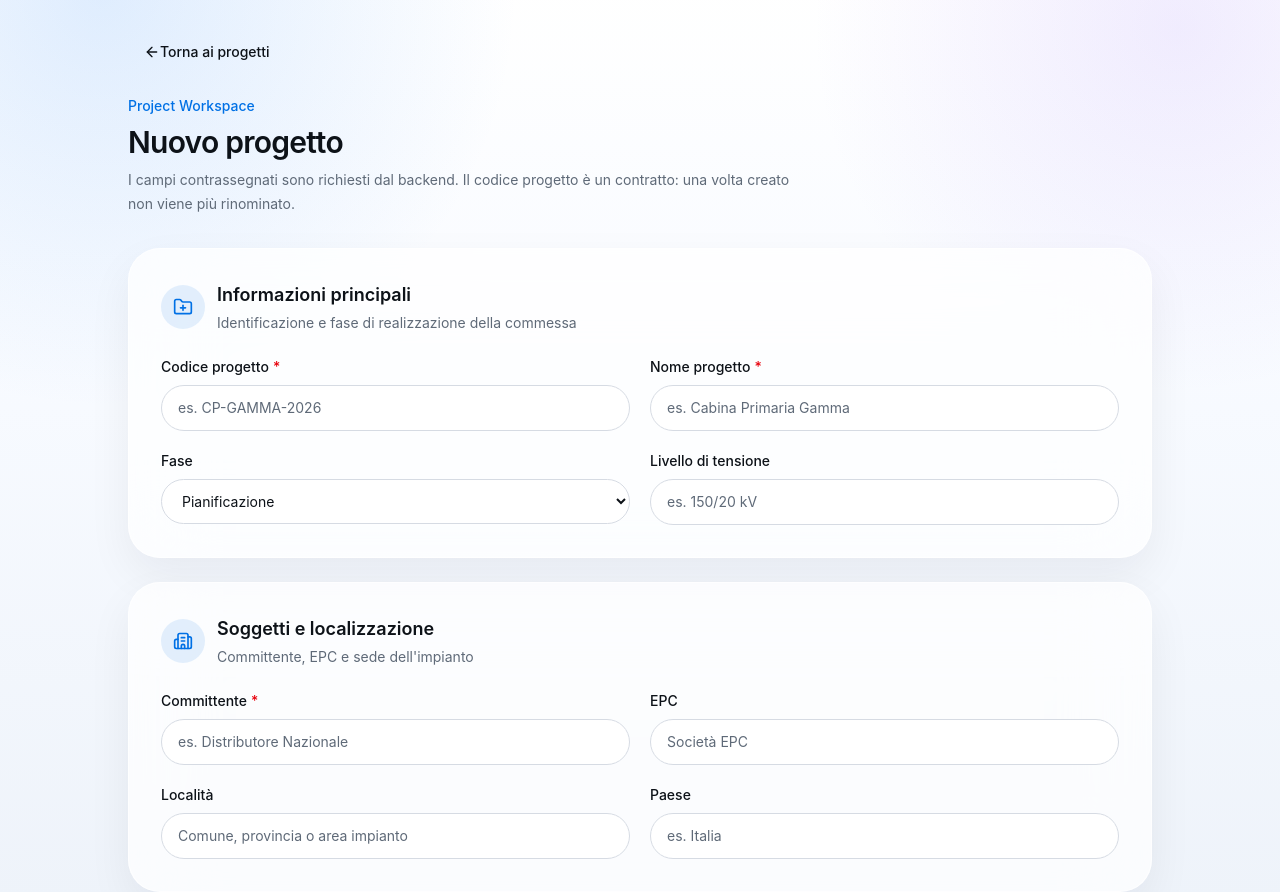
Test: project creation › refuses to submit without the customer the backend requires
The image size is (1280, 892).
Type "CP-1" into the field labelled "Codice progetto*".
click(396, 408); type("CP-1")  # box [161, 385, 630, 431]
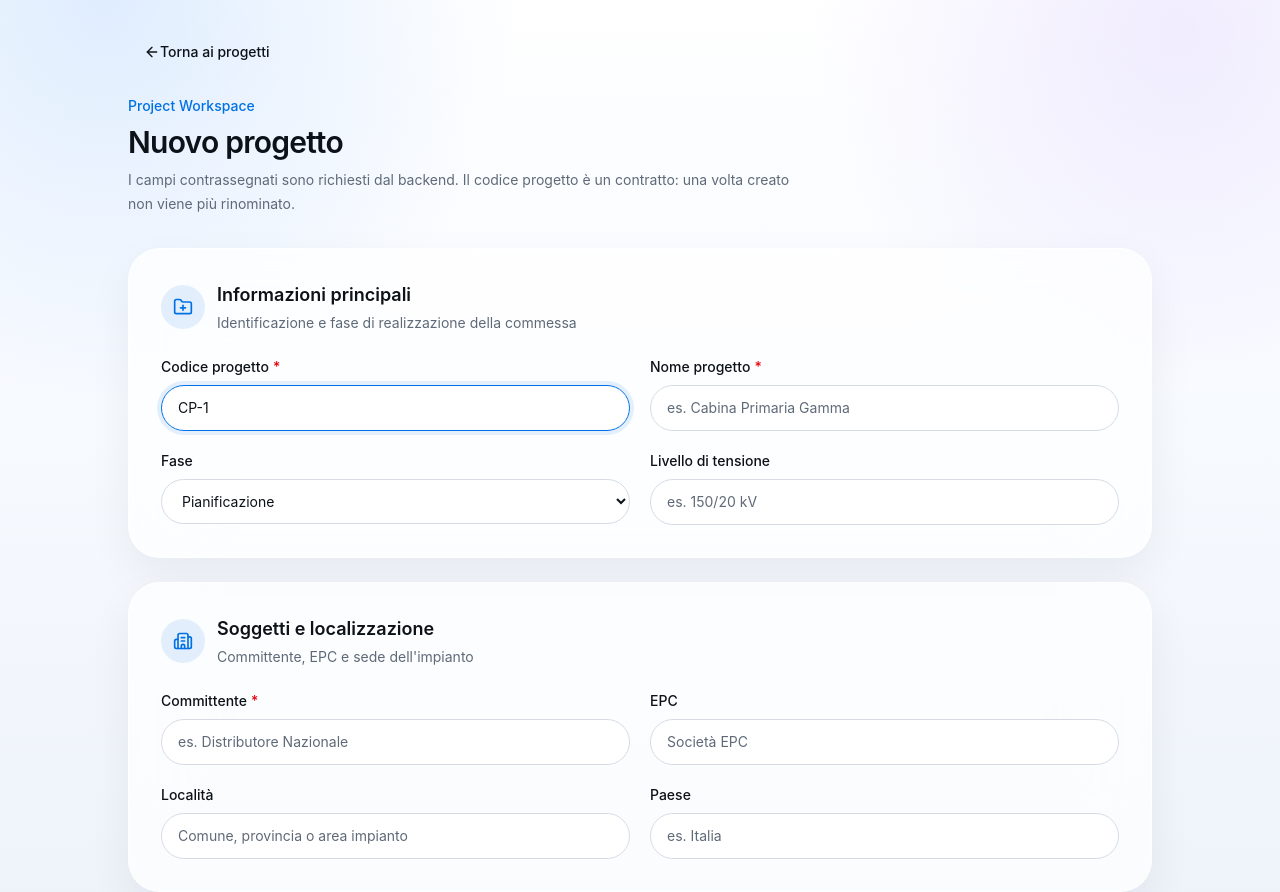
Type "Cabina" into the field labelled "Nome progetto*".
click(884, 408); type("Cabina")  # box [650, 385, 1119, 431]
(page scrolled)
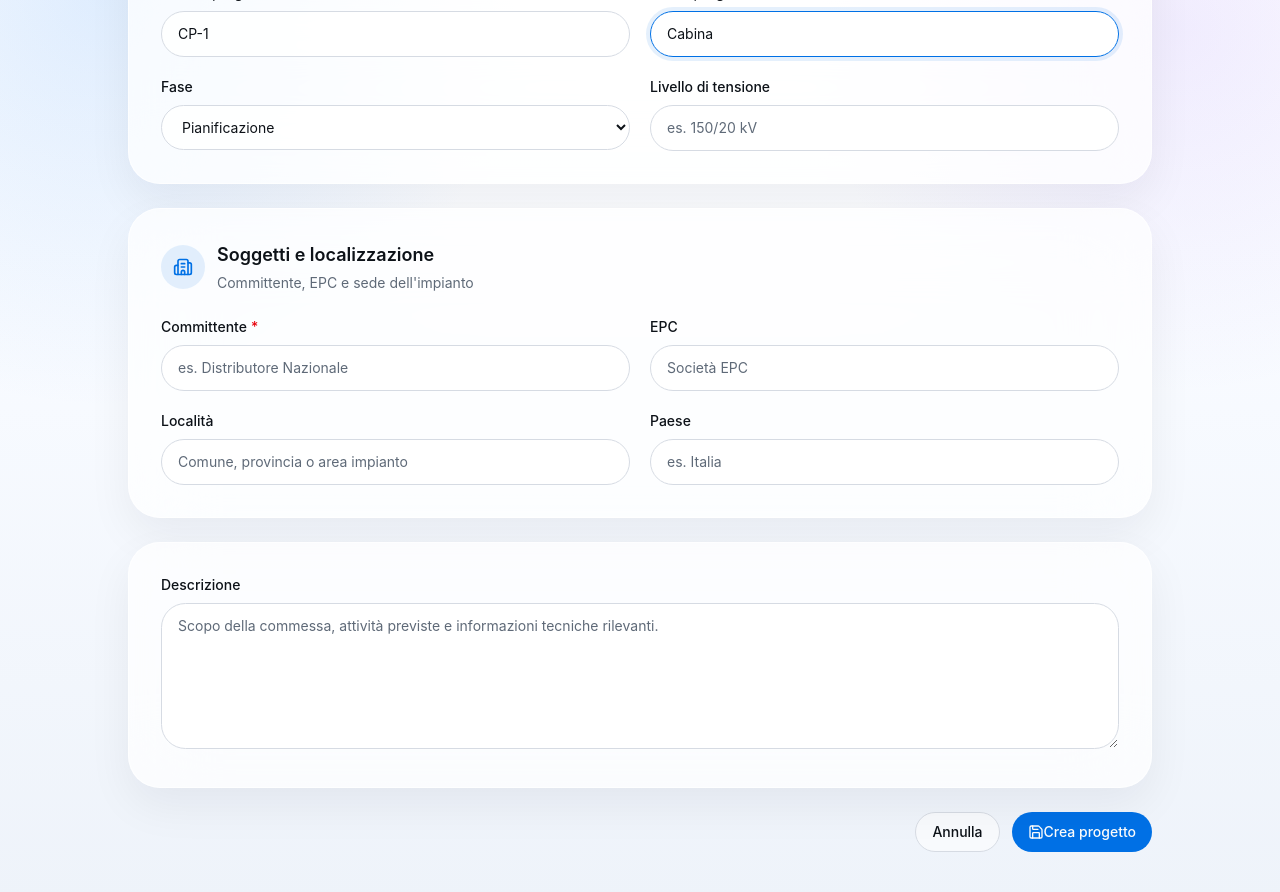
Click the button "Crea progetto".
click(1082, 832)  # box [1012, 812, 1152, 852]
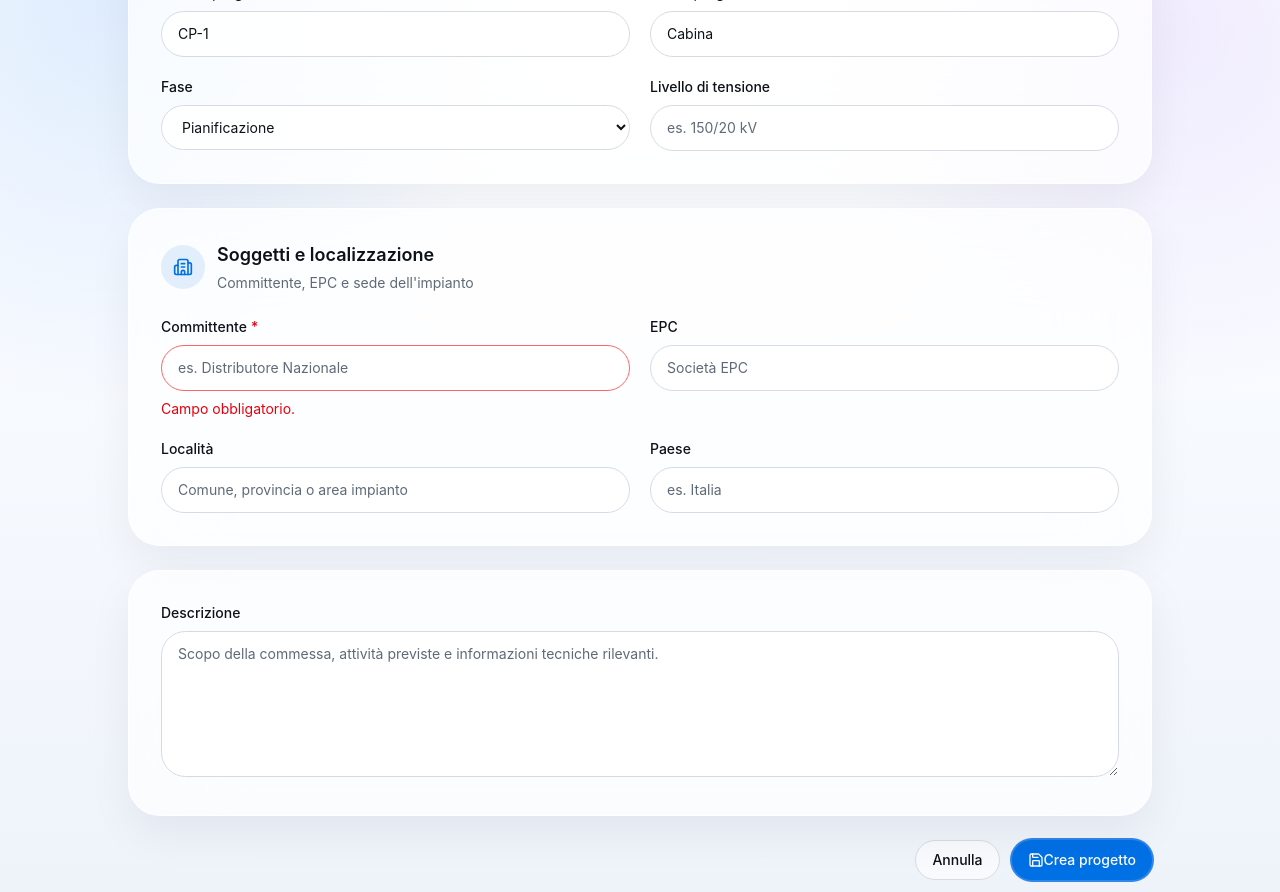
Check: the text "Campo obbligatorio." is shown, box [161, 400, 295, 417]
